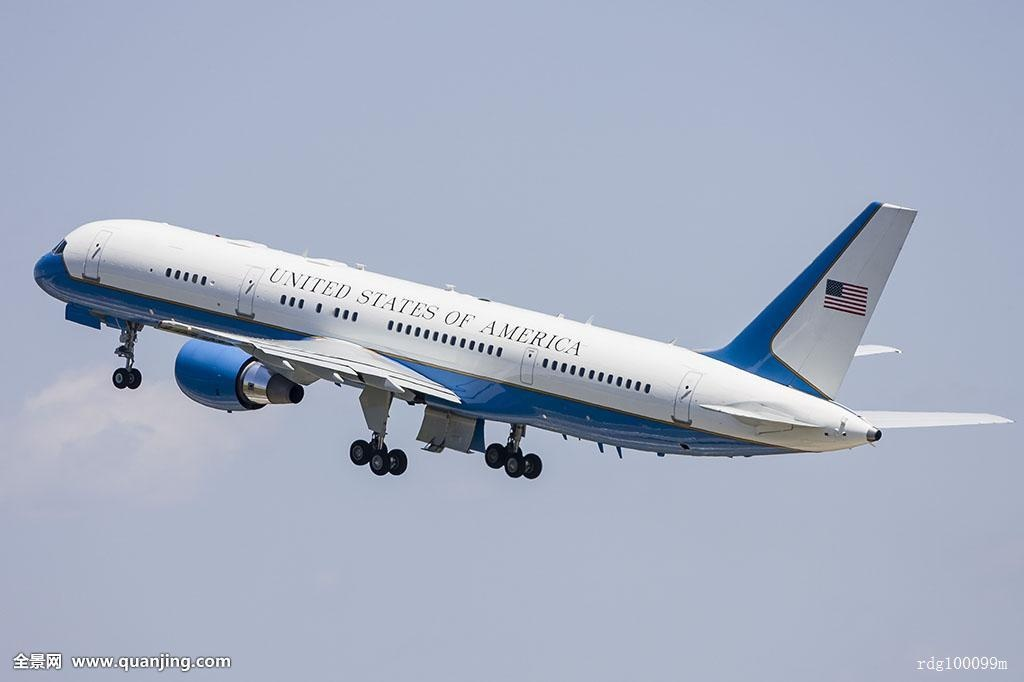airplane: (24, 195, 1002, 477)
